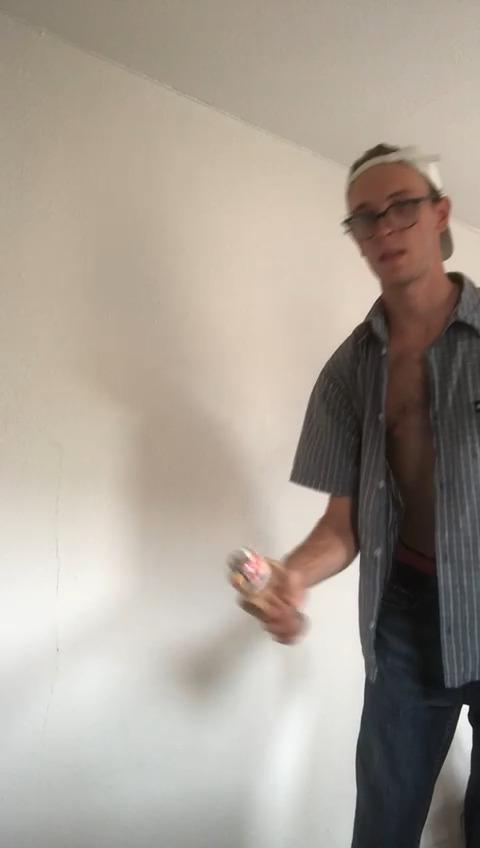kendama_ball: (226, 547, 271, 594)
